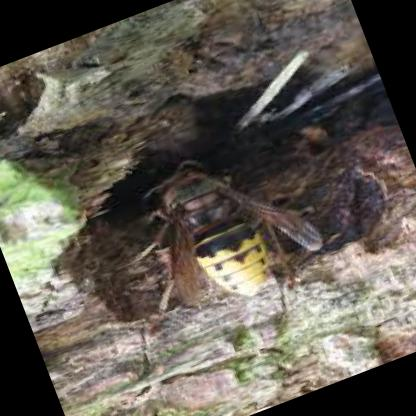european: (91, 129, 328, 351)
